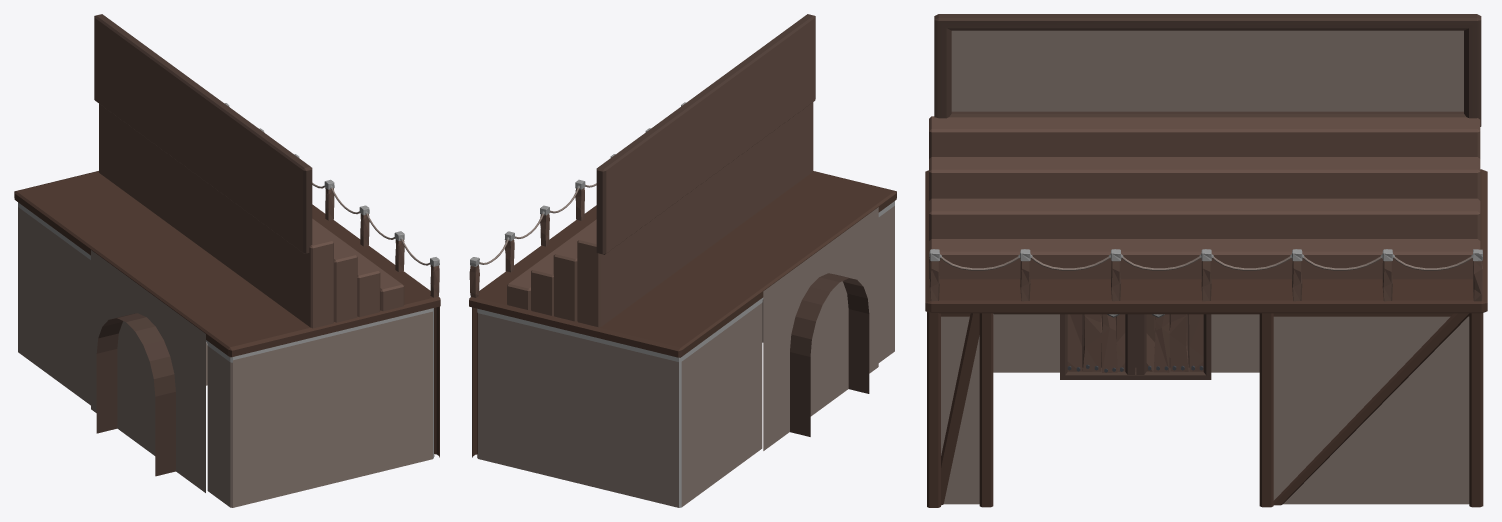
File: ecurie.fbx
The picture shows the model from 3 angles, left to right: view 1: azimuth 30°, elevation 25°; view 2: azimuth 150°, elevation 25°; view 3: azimuth 270°, elevation 25°; orthographic projection. The views are drawn at different scales.
Visible parts, largest first — view 1: Ecurie1; view 2: Ecurie1; view 3: Ecurie1.
Part boxes in pixels (box(x1,y1,x2,y2)): Ecurie1: box(14, 14, 440, 507); Ecurie1: box(469, 14, 896, 507); Ecurie1: box(925, 14, 1487, 507).
Bounding box in the file's own units: 246 × 318 × 394.
